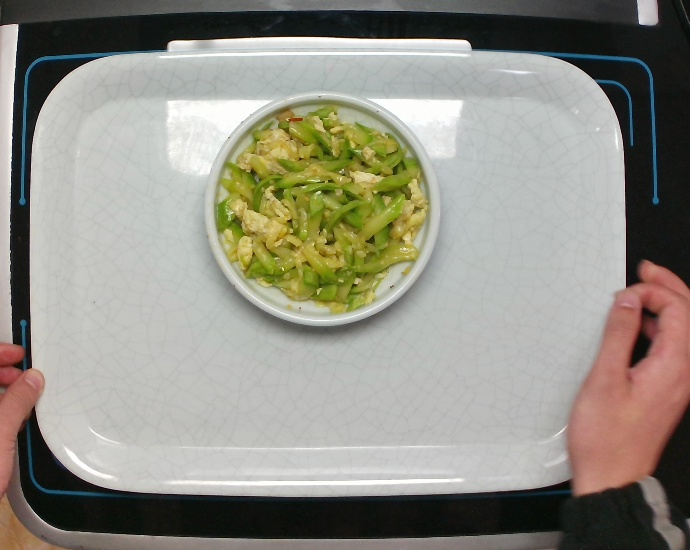JYsf-Xiao_Yuan_Pan: (199, 85, 446, 335)
